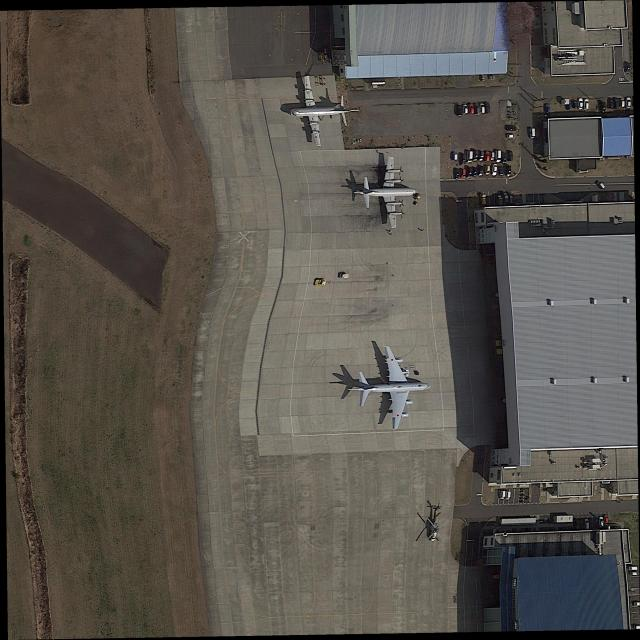large-vehicle: (338, 271, 350, 280)
plane: (356, 346, 431, 432), (281, 73, 365, 148), (362, 158, 418, 229)
small-vehicle: (480, 102, 487, 115), (583, 98, 590, 111), (450, 151, 458, 162), (598, 516, 605, 528), (456, 103, 462, 117), (625, 62, 631, 75), (606, 96, 612, 109), (626, 96, 632, 109), (508, 151, 515, 162), (577, 98, 584, 109), (506, 124, 517, 131), (492, 164, 498, 176), (467, 166, 473, 178), (604, 515, 610, 527), (584, 517, 590, 529), (530, 127, 536, 139), (469, 103, 475, 115), (468, 150, 474, 162), (505, 165, 512, 175), (507, 133, 517, 140), (475, 104, 481, 115), (479, 150, 485, 161), (629, 565, 638, 572), (485, 166, 491, 176), (454, 169, 460, 179), (600, 101, 606, 111), (497, 150, 502, 162), (473, 166, 478, 177), (502, 153, 507, 164), (620, 97, 625, 108), (474, 150, 479, 161), (485, 151, 490, 162), (460, 169, 466, 178), (630, 570, 639, 576), (499, 165, 504, 175), (479, 166, 484, 176), (463, 104, 468, 114), (490, 151, 495, 161), (633, 601, 640, 606)
